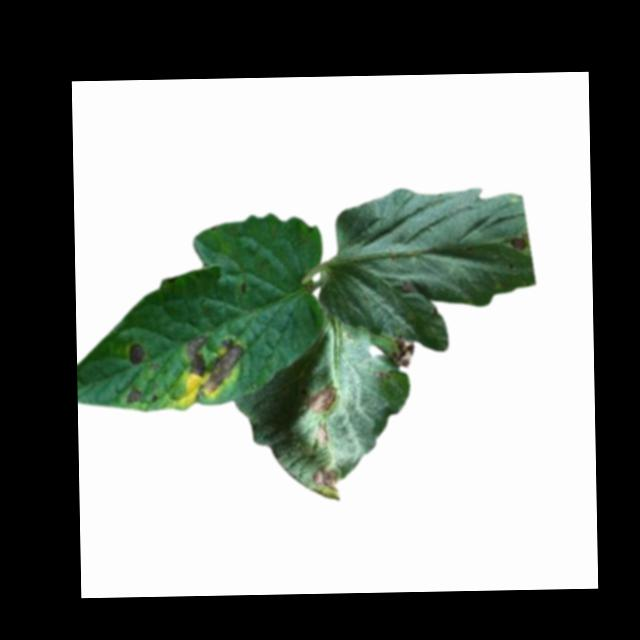Early_blight: (184, 332, 244, 395), (390, 336, 417, 371), (309, 385, 338, 416), (312, 467, 339, 492), (125, 341, 144, 367), (125, 383, 142, 408), (507, 234, 526, 254), (401, 279, 415, 298), (318, 420, 329, 444)
